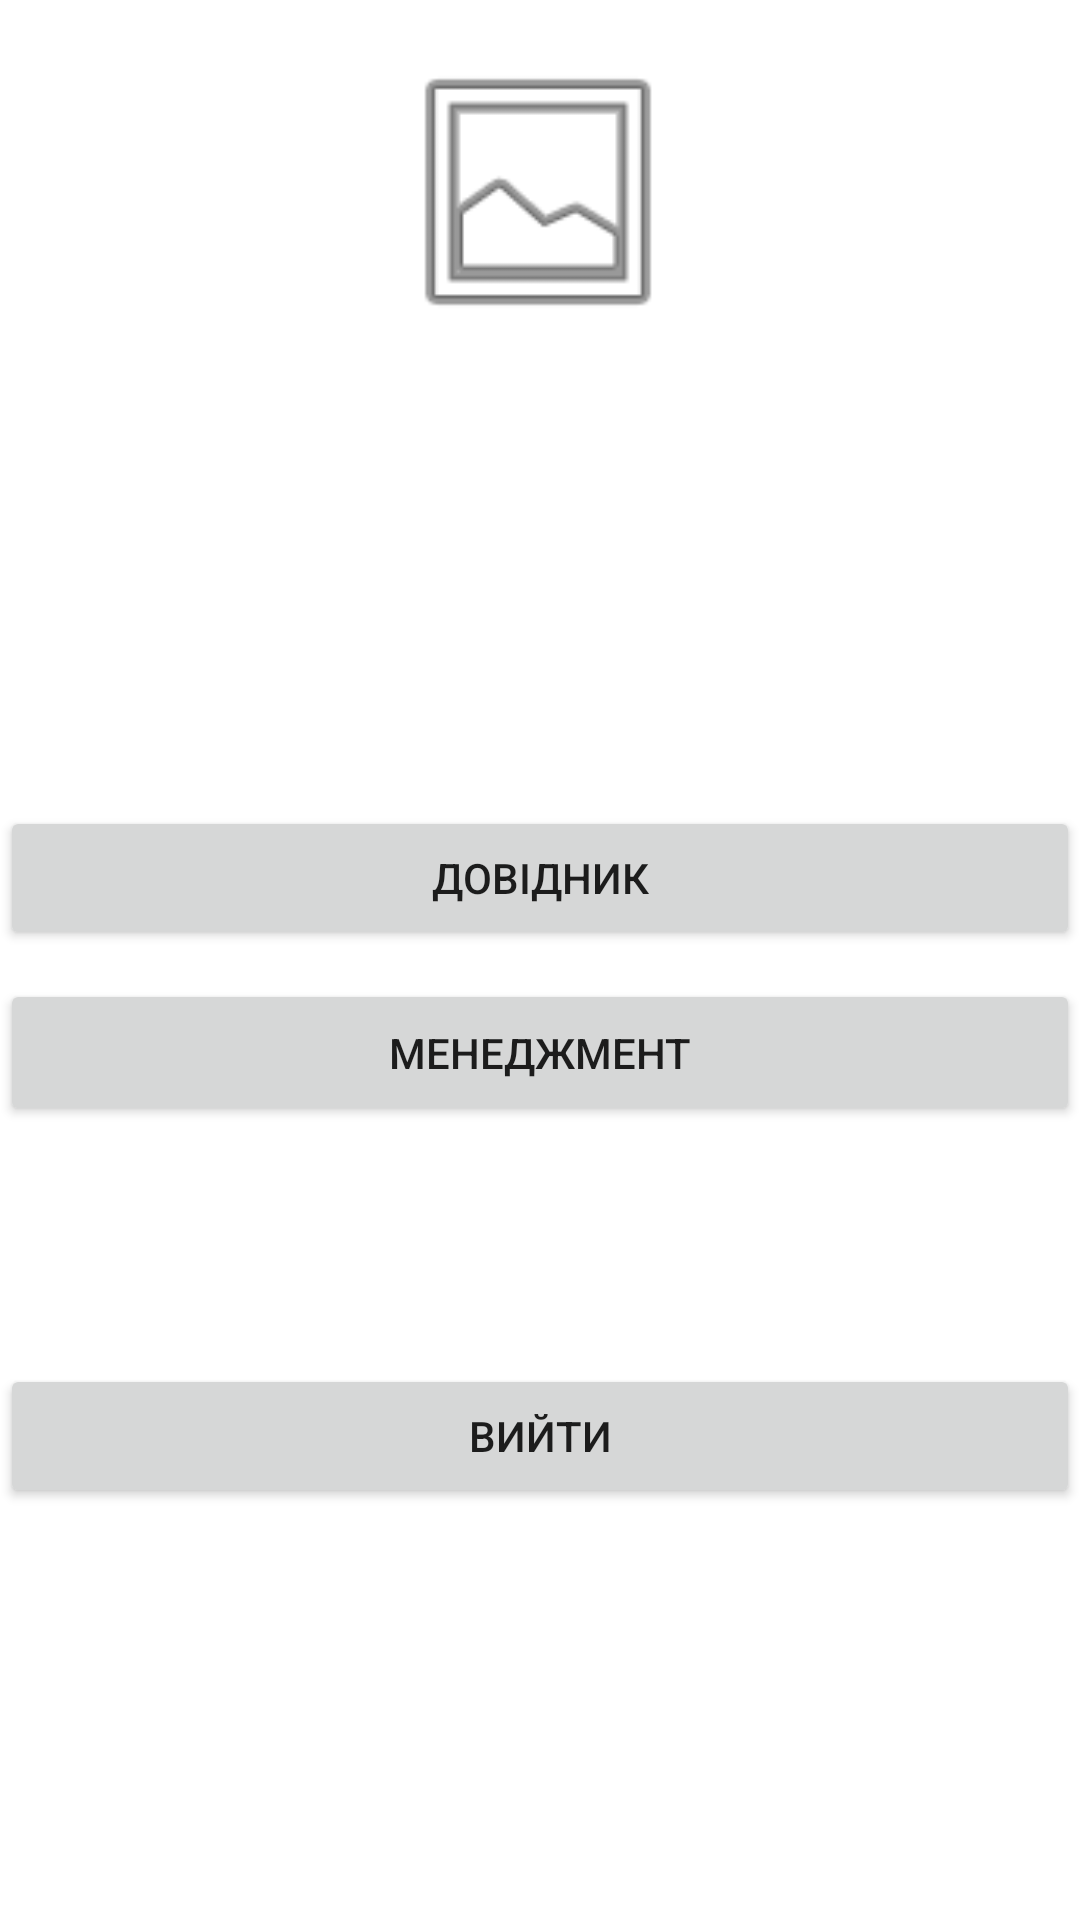

Icon bounding boxes for this 1080w x 1920h phone screenshot, format (x1, y1, x2, y2):
gallery: (425, 79, 651, 305)
